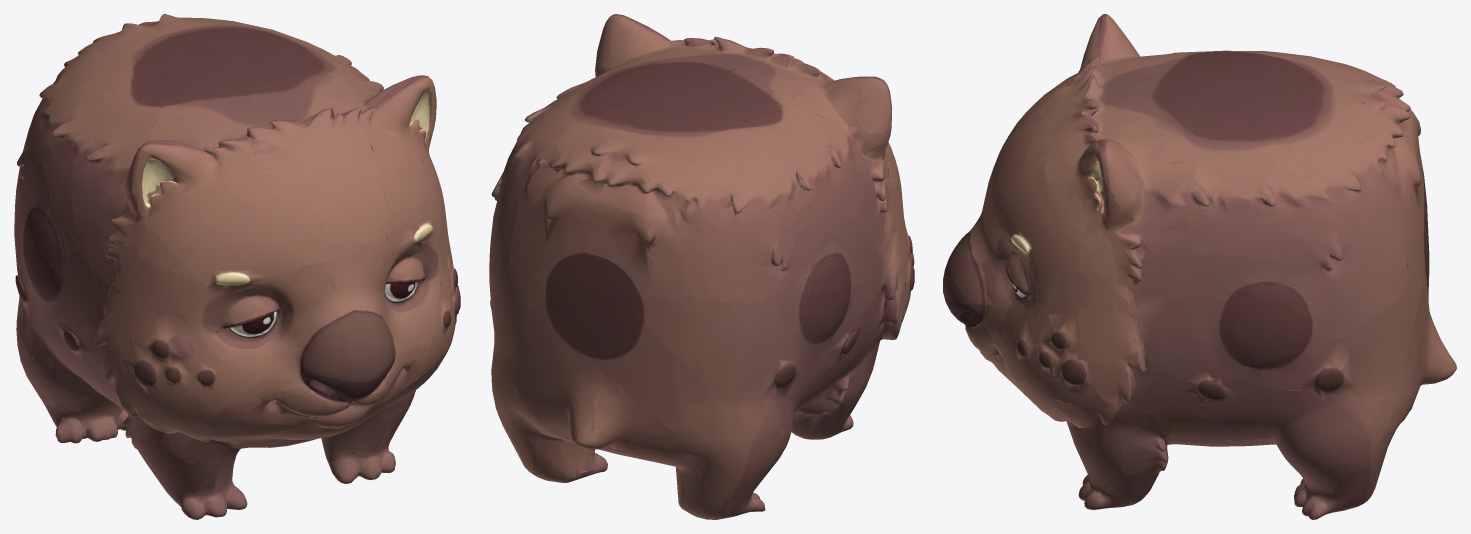
3 views of the same model, side by side, from view 1: azimuth 30°, elevation 25°; view 2: azimuth 150°, elevation 25°; view 3: azimuth 270°, elevation 25° (orthographic). The views are drawn at different scales.
Parts seen in each view (by area): view 1: Mesh_0; view 2: Mesh_0; view 3: Mesh_0.
Boxes of the visible parts, bbox=[...] form: Mesh_0: bbox=[14, 14, 460, 519]; Mesh_0: bbox=[489, 14, 914, 519]; Mesh_0: bbox=[943, 14, 1456, 519].
Bounding box in the file's own units: 1.46 × 1.55 × 1.9.
1 material, 1 textured.
